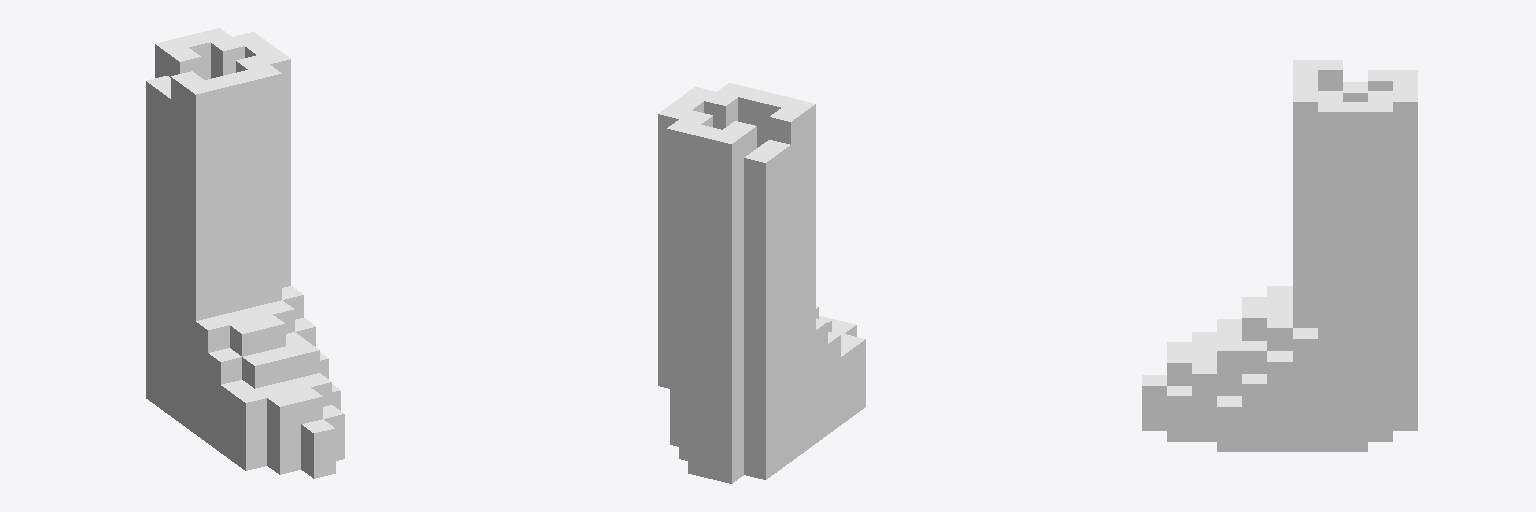
The model's file is lower_leg.obj.
The picture shows the model from 3 angles: view 1: azimuth 30°, elevation 25°; view 2: azimuth 150°, elevation 25°; view 3: azimuth 270°, elevation 25°; orthographic projection.
Visible parts, largest first — view 1: Ida; view 2: Ida; view 3: Ida.
Boxes of the visible parts, x1=… form: Ida: x1=146, y1=28, x2=344, y2=478; Ida: x1=658, y1=83, x2=865, y2=483; Ida: x1=1142, y1=60, x2=1417, y2=451.
Size of the model in its own units: 0.5 by 1.5 by 1.1.